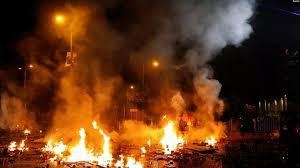fire: (43, 119, 113, 164), (157, 115, 185, 152), (205, 133, 219, 145)
